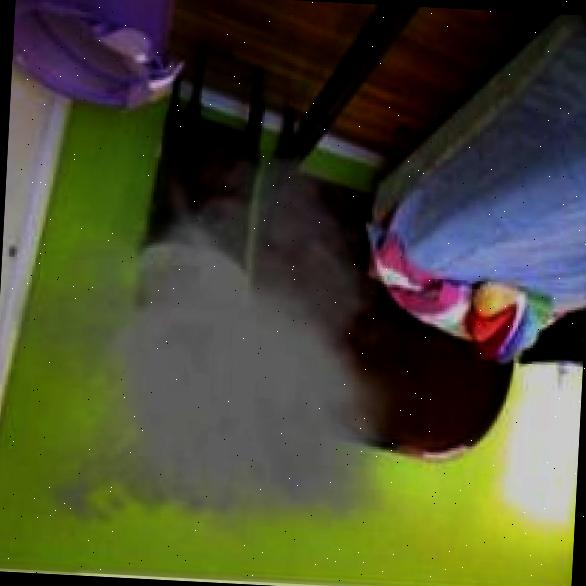smoke: (0, 134, 421, 555)
